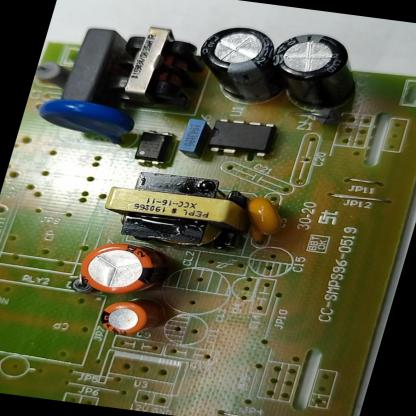Cap1: (61, 232, 186, 306)
Cap2: (83, 292, 173, 348)
Cap3: (180, 19, 302, 113)
Cap4: (258, 27, 374, 125)
MOSFET: (190, 112, 286, 164)
Mov: (21, 87, 147, 151)
Resistor: (32, 54, 78, 91)
Transformer: (90, 164, 263, 261), (96, 17, 216, 119)
